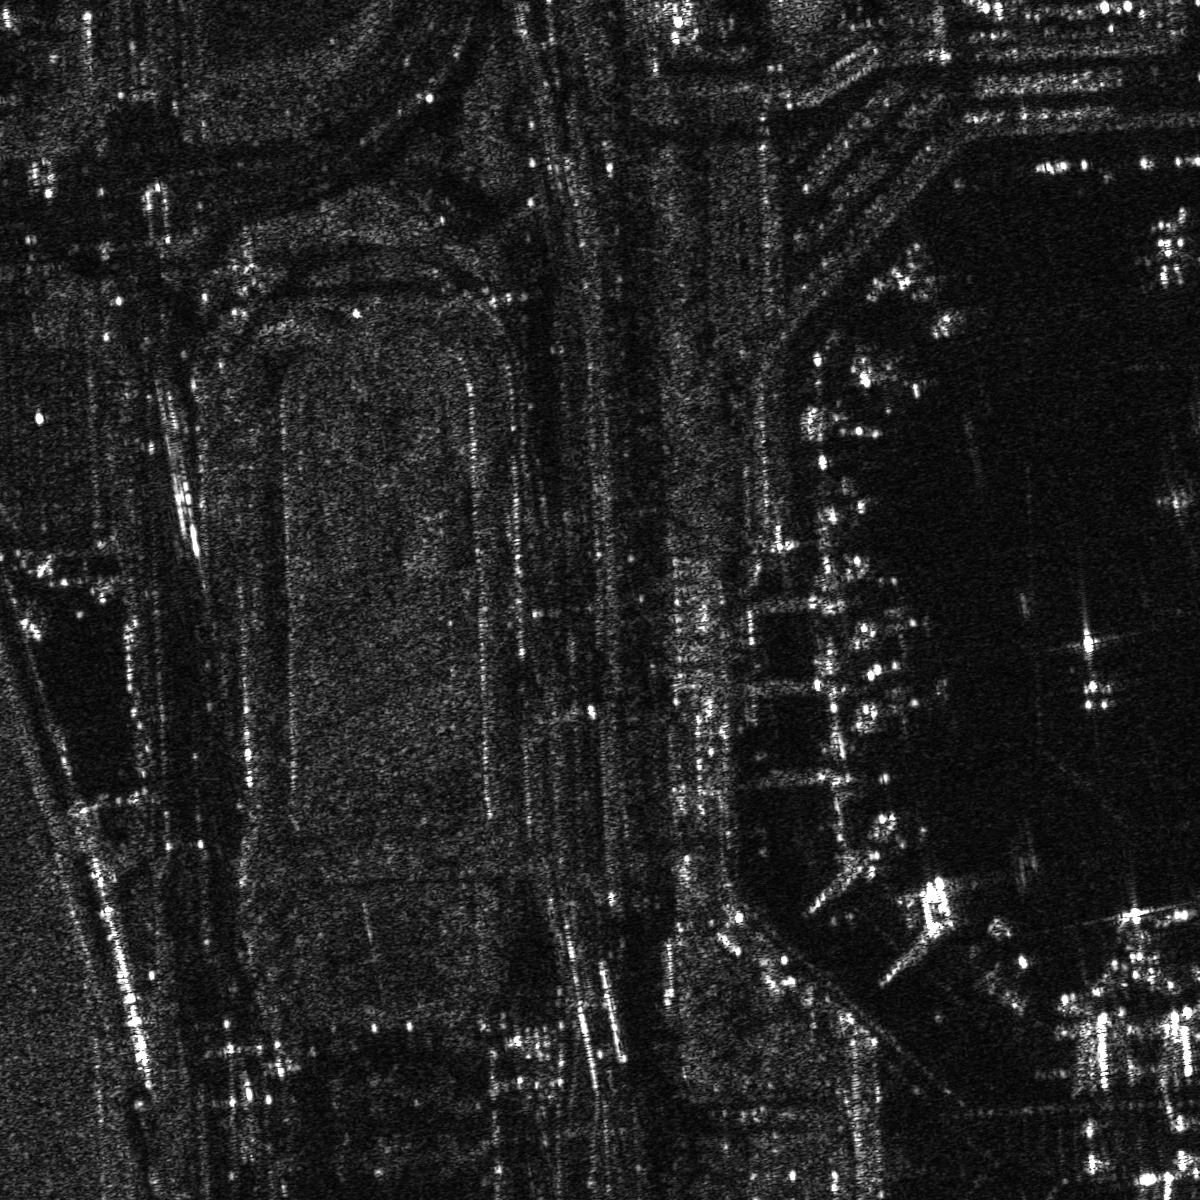A220: (893, 263, 984, 345), (843, 344, 940, 420), (854, 585, 944, 665), (860, 673, 962, 743), (1104, 896, 1176, 995)
Boeing737: (1066, 625, 1134, 716), (1129, 208, 1199, 292)
